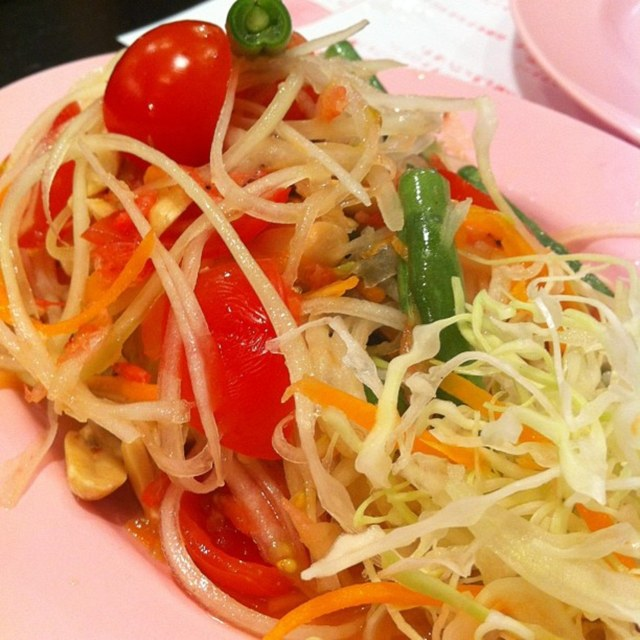tomato: (179, 261, 307, 456), (173, 451, 304, 603), (88, 187, 292, 284), (98, 18, 226, 164), (14, 101, 79, 256), (431, 169, 499, 210)
